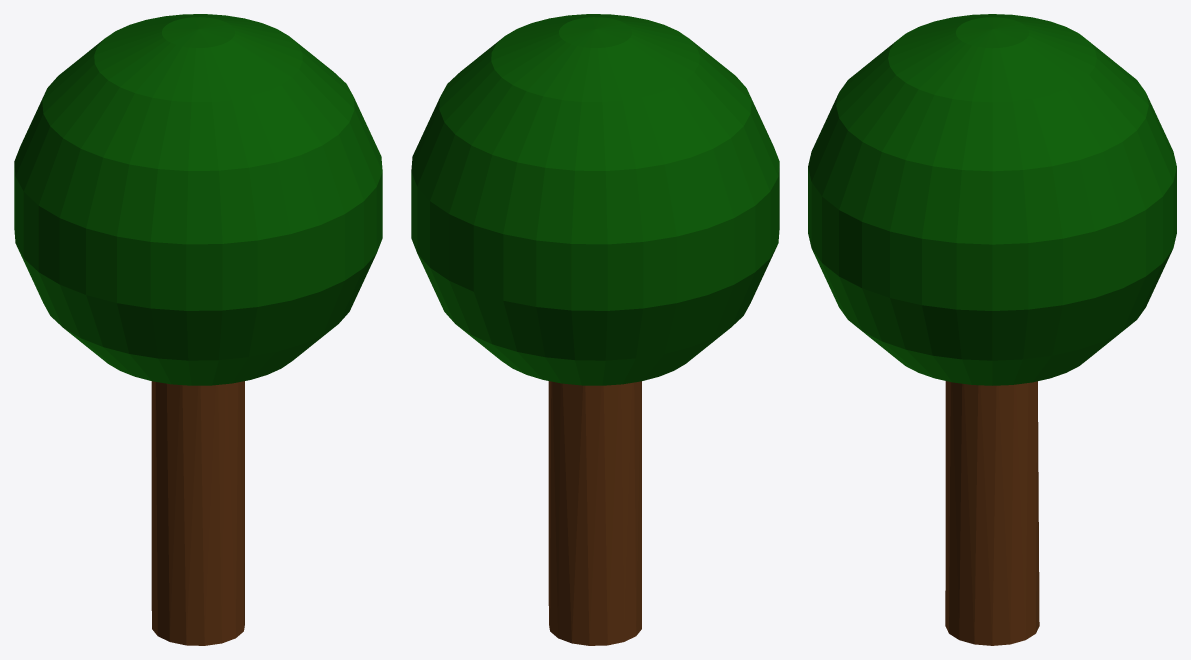
Rendered from Tree_MidPoly.fbx.
3 renders of one model, left to right at view 1: azimuth 30°, elevation 25°; view 2: azimuth 150°, elevation 25°; view 3: azimuth 270°, elevation 25°, orthographic.
Visible parts, largest first — view 1: Leaves, Trunk; view 2: Leaves, Trunk; view 3: Leaves, Trunk.
Part boxes in pixels (x1,y1,x2,y2): Leaves: [14, 14, 382, 385]; Trunk: [151, 381, 244, 645]; Leaves: [411, 14, 779, 385]; Trunk: [548, 381, 641, 645]; Leaves: [808, 14, 1176, 385]; Trunk: [945, 381, 1039, 645].
Bounding box in the file's own units: 785 × 1400 × 785.
